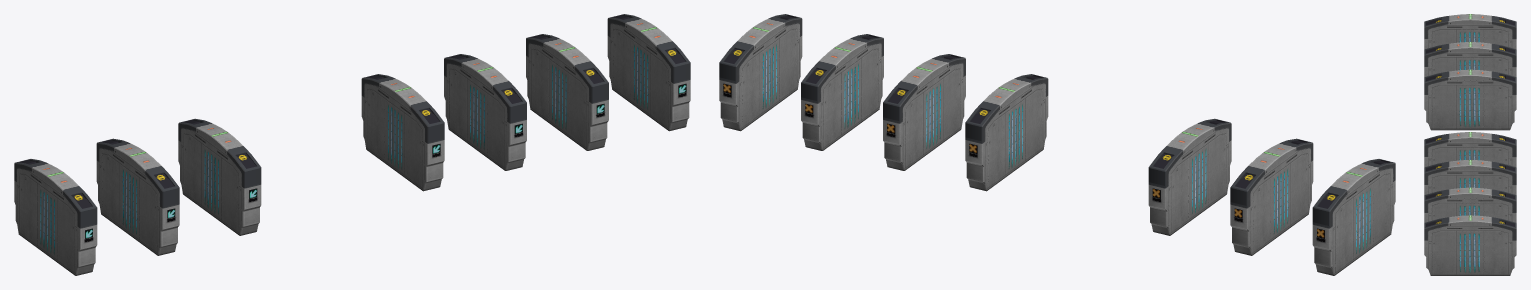
Rendered from Tourniquet01b_Group.FBX.
3 views of the same model, side by side, from view 1: azimuth 30°, elevation 25°; view 2: azimuth 150°, elevation 25°; view 3: azimuth 270°, elevation 25° (orthographic). The views are drawn at different scales.
Parts seen in each view (by area): view 1: Tourniquet01b_Group; view 2: Tourniquet01b_Group; view 3: Tourniquet01b_Group.
Boxes of the visible parts, x1=… form: Tourniquet01b_Group: x1=14, y1=14, x2=690, y2=275; Tourniquet01b_Group: x1=719, y1=14, x2=1395, y2=275; Tourniquet01b_Group: x1=1424, y1=14, x2=1516, y2=275.
Size of the model in its own units: 10298 by 1272 by 1940.
